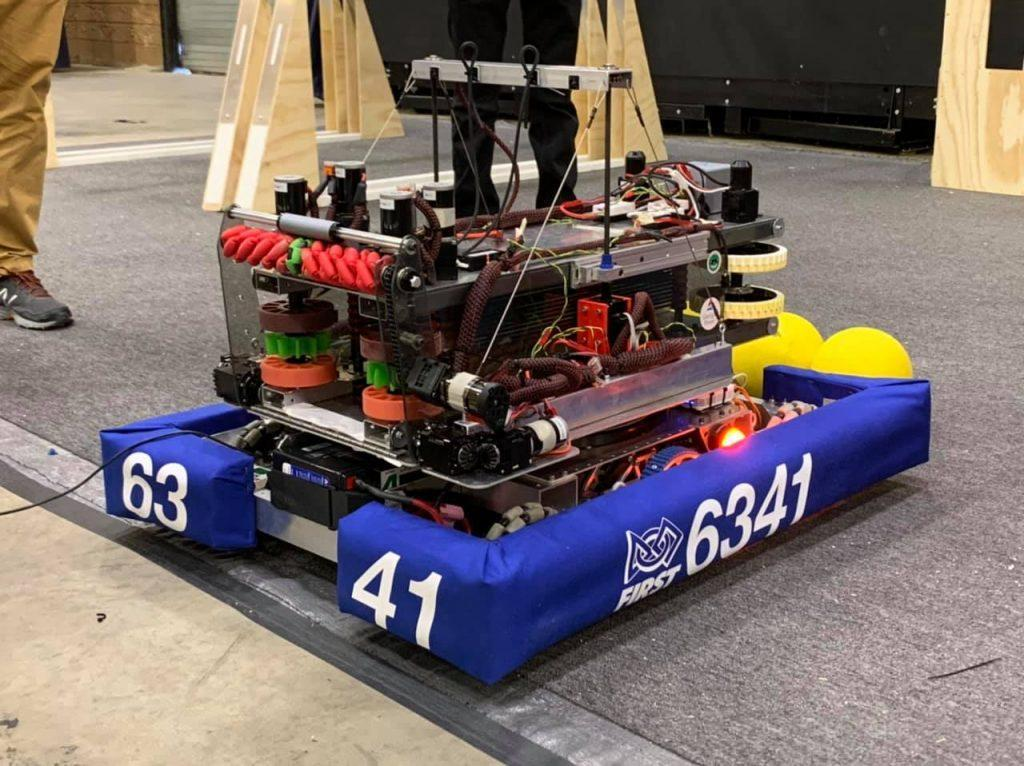robot: (93, 38, 939, 694)
